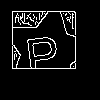P: (22, 27, 61, 76)
